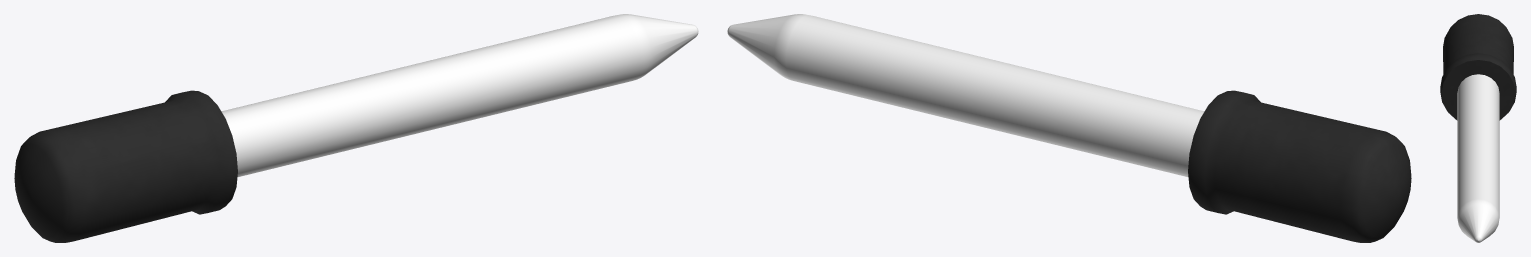
Rendered from Glass_medical_dropper.fbx.
3 views of the same model, side by side, from view 1: azimuth 30°, elevation 25°; view 2: azimuth 150°, elevation 25°; view 3: azimuth 270°, elevation 25° (orthographic). The views are drawn at different scales.
Parts seen in each view (by area): view 1: Glass_medical_dropper1; view 2: Glass_medical_dropper1; view 3: Glass_medical_dropper1.
Boxes of the visible parts, box(x1,y1,x2,y2) form: Glass_medical_dropper1: box(14, 14, 698, 242); Glass_medical_dropper1: box(727, 14, 1411, 242); Glass_medical_dropper1: box(1440, 14, 1516, 242).
Bounding box in the file's own units: 14.6 × 2.34 × 2.34.
